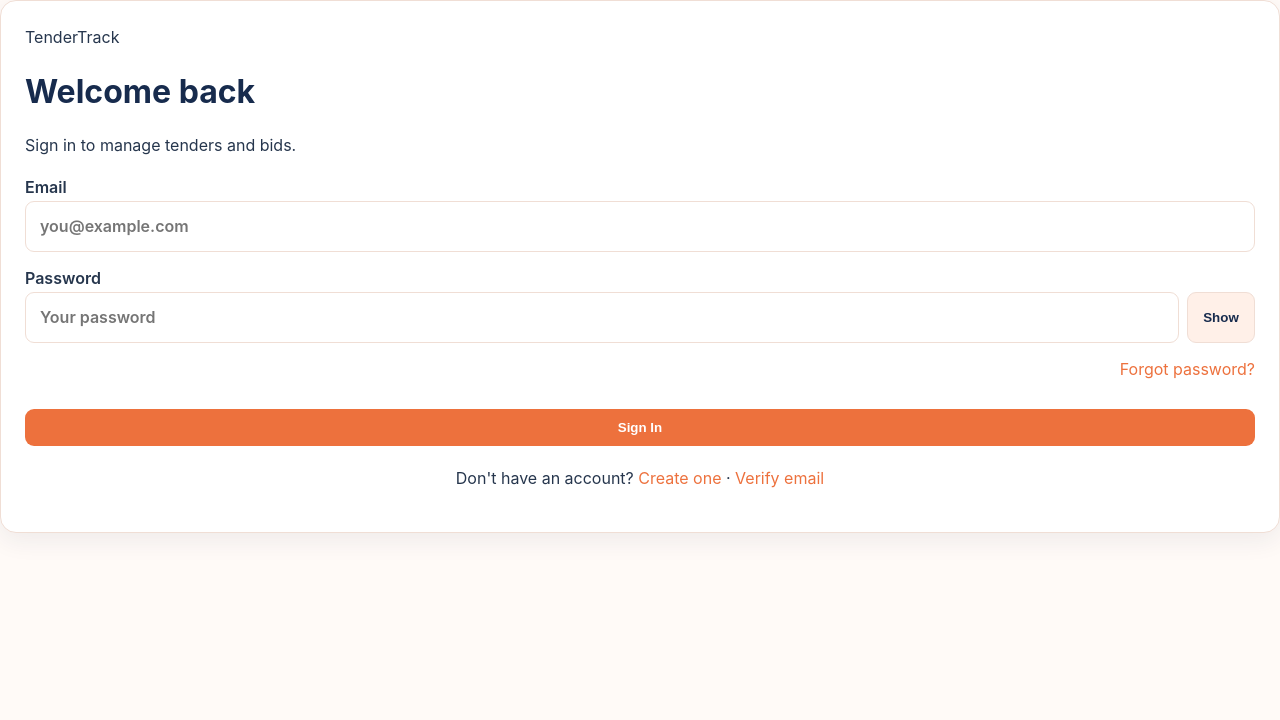
it: Login › shows backend login error
In the field labelled "Email": coordinates (640, 226) [25, 201, 1255, 252], type "a@test.com"
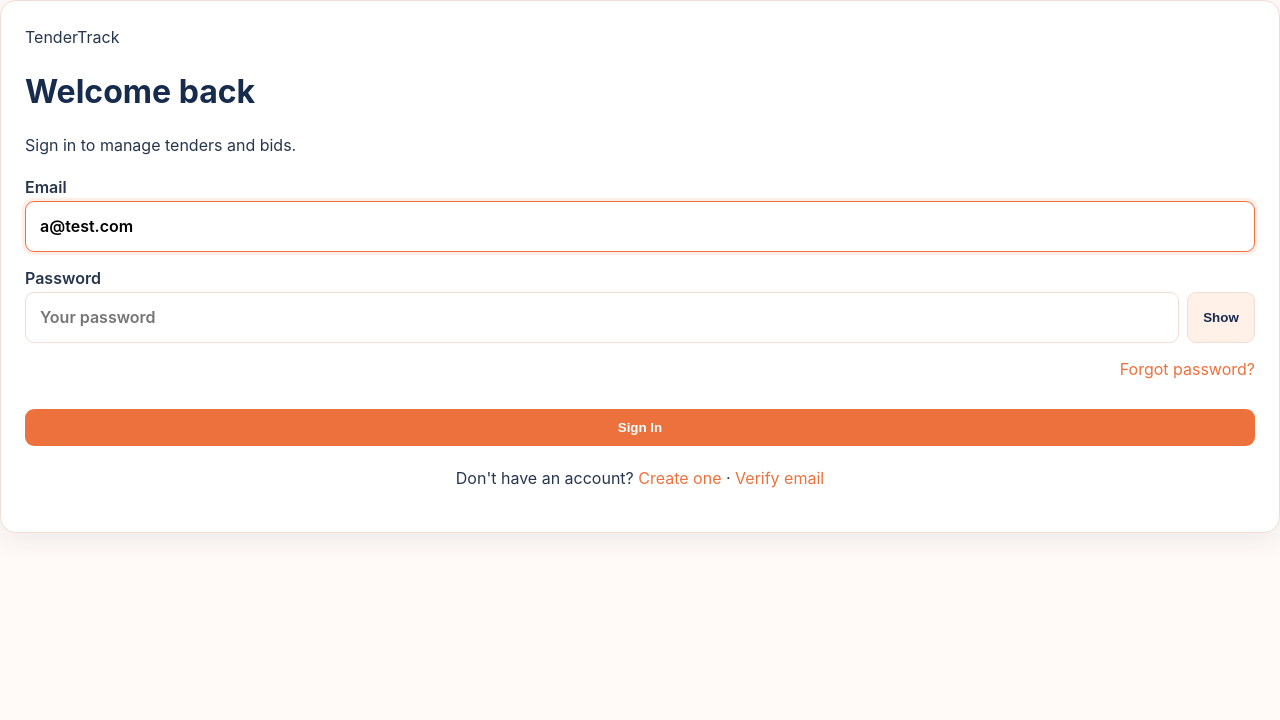
In the password field labelled "Password Show": coordinates (602, 318) [25, 292, 1179, 343], type "wrong"
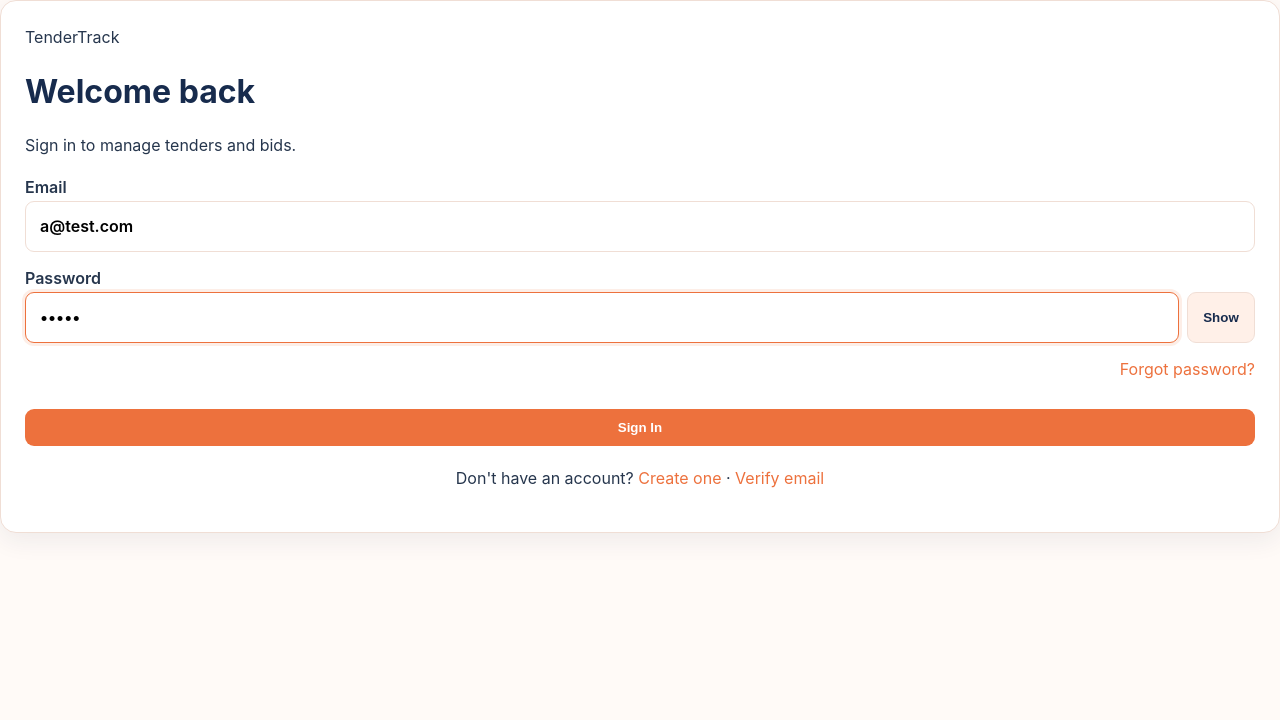
Click the button "Sign In": coordinates (640, 428) [25, 409, 1255, 446]
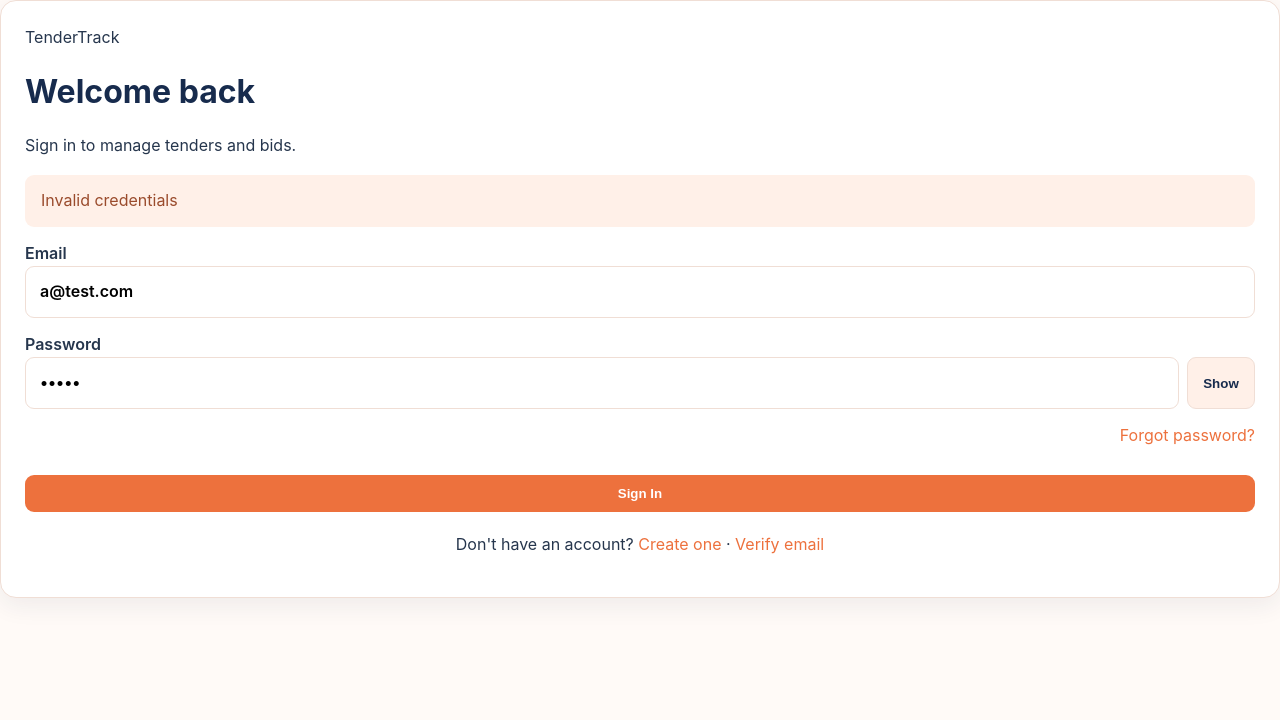
Expected: the text "Invalid credentials" is shown, [25, 175, 1255, 227]
